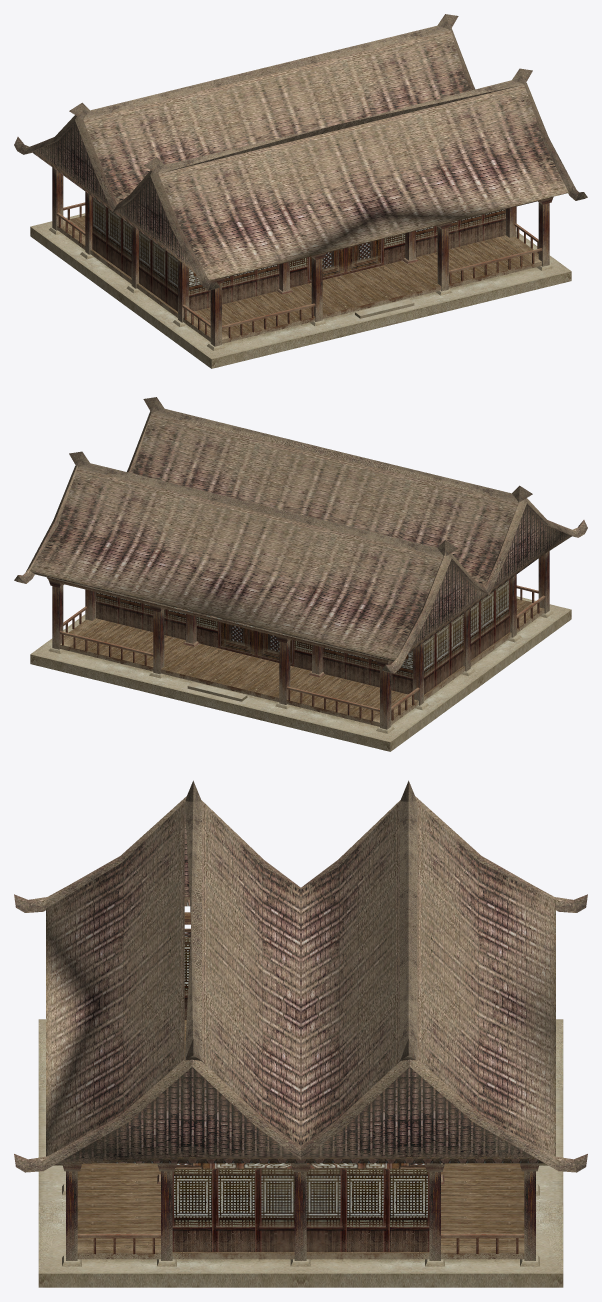
The model's file is desert-033-guesthouse-01_lod_01.fbx.
3 views of the same model, one above another, from view 1: azimuth 30°, elevation 25°; view 2: azimuth 150°, elevation 25°; view 3: azimuth 270°, elevation 25° (orthographic). The views are drawn at different scales.
Parts seen in each view (by area): view 1: desert-033-guesthouse-01, ob-033-guesthouse-02; view 2: desert-033-guesthouse-01, ob-033-guesthouse-02; view 3: desert-033-guesthouse-01, ob-033-guesthouse-02.
Boxes of the visible parts, bbox=[...] form: desert-033-guesthouse-01: bbox=[14, 14, 587, 318]; ob-033-guesthouse-02: bbox=[30, 167, 571, 368]; desert-033-guesthouse-01: bbox=[14, 397, 587, 701]; ob-033-guesthouse-02: bbox=[30, 551, 571, 751]; desert-033-guesthouse-01: bbox=[14, 780, 587, 1184]; ob-033-guesthouse-02: bbox=[38, 912, 563, 1287].
Bounding box in the file's own units: 20.25 × 8.59 × 17.86.
